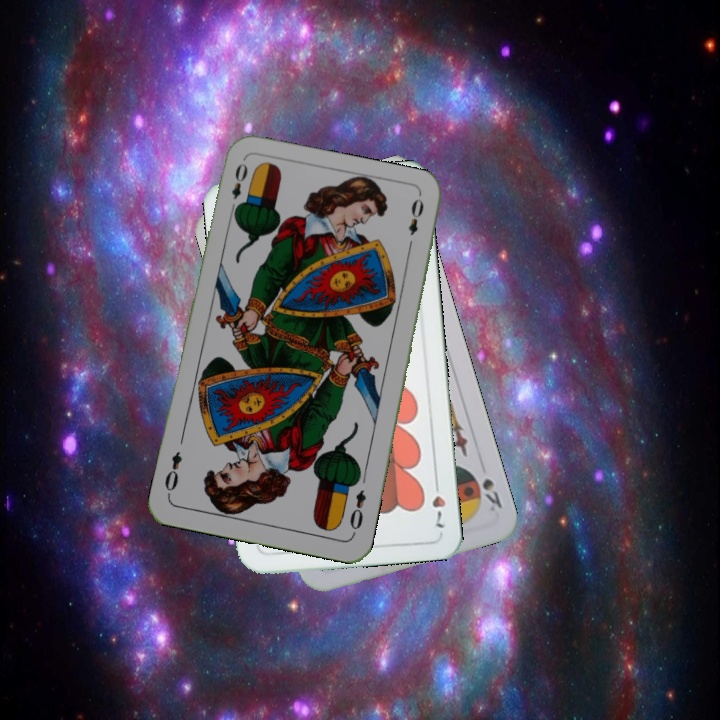EO: (226, 159, 251, 216), (345, 486, 369, 538)
H7: (428, 474, 448, 530)
SK: (478, 474, 505, 514)
